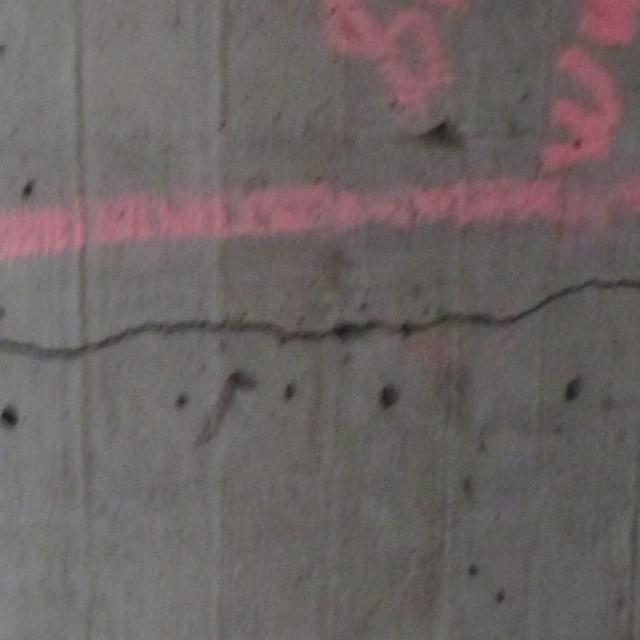Transverse: (0, 275, 640, 360)
